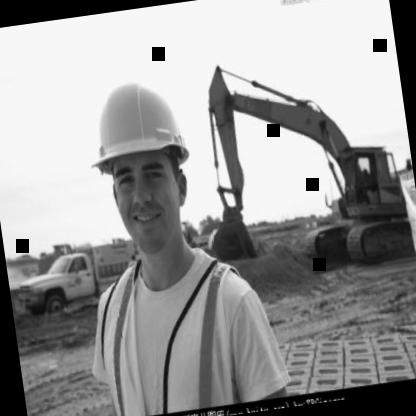helmet: (72, 58, 211, 280)
